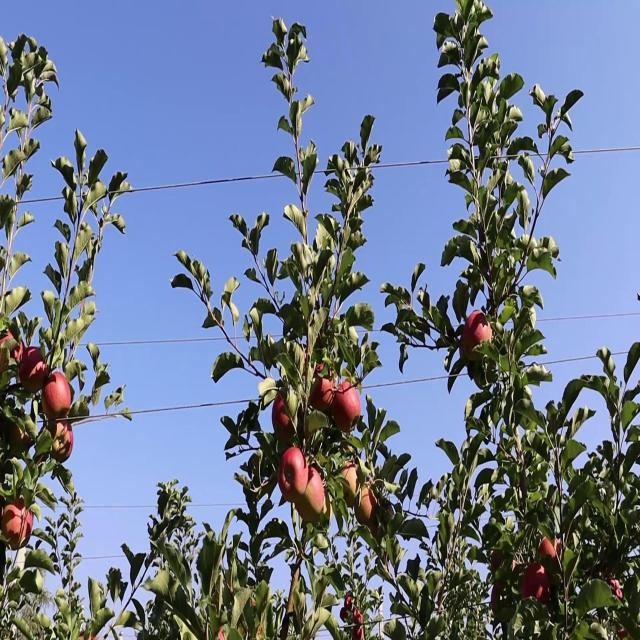apple: (40, 369, 72, 425), (296, 469, 327, 526), (280, 447, 308, 505), (332, 383, 363, 434), (20, 348, 48, 396), (524, 561, 552, 604), (464, 312, 492, 354), (0, 504, 23, 553), (272, 391, 294, 441), (312, 369, 336, 414), (52, 419, 74, 466), (340, 462, 360, 510), (492, 583, 515, 624), (0, 334, 23, 372), (524, 561, 544, 603), (356, 490, 375, 526), (492, 583, 506, 624), (4, 341, 25, 368), (21, 504, 35, 544), (540, 540, 560, 567), (460, 341, 478, 368), (24, 504, 35, 542), (520, 575, 532, 603), (492, 554, 504, 576)
